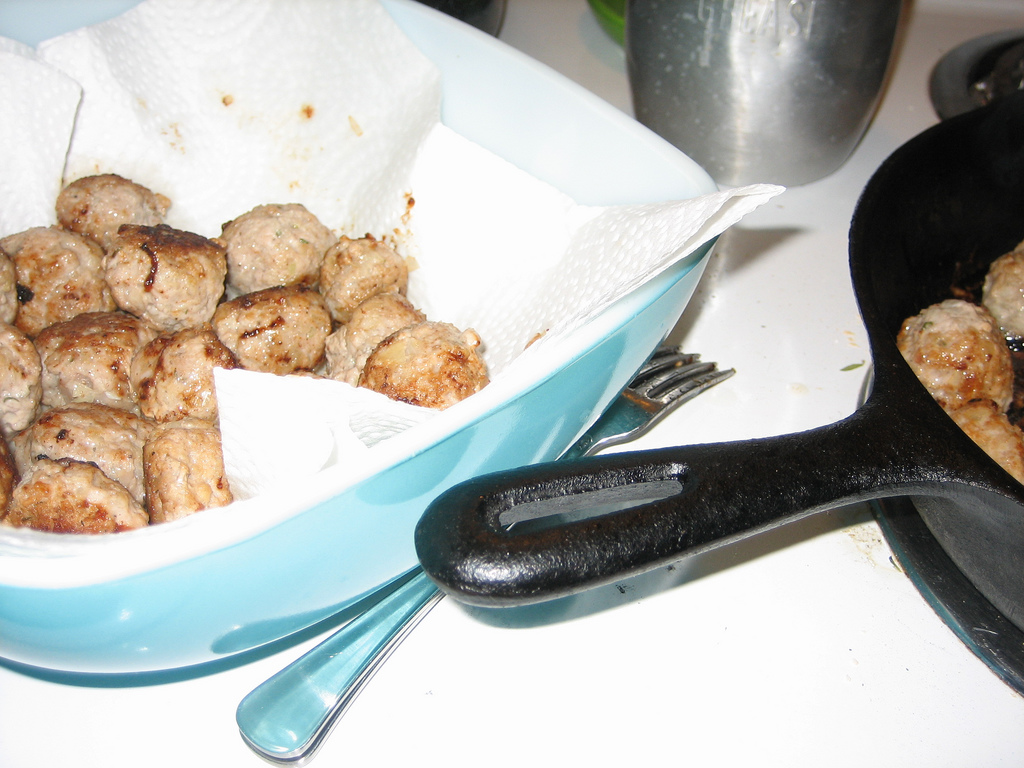meatballs: (11, 407, 237, 517), (34, 230, 222, 322)
